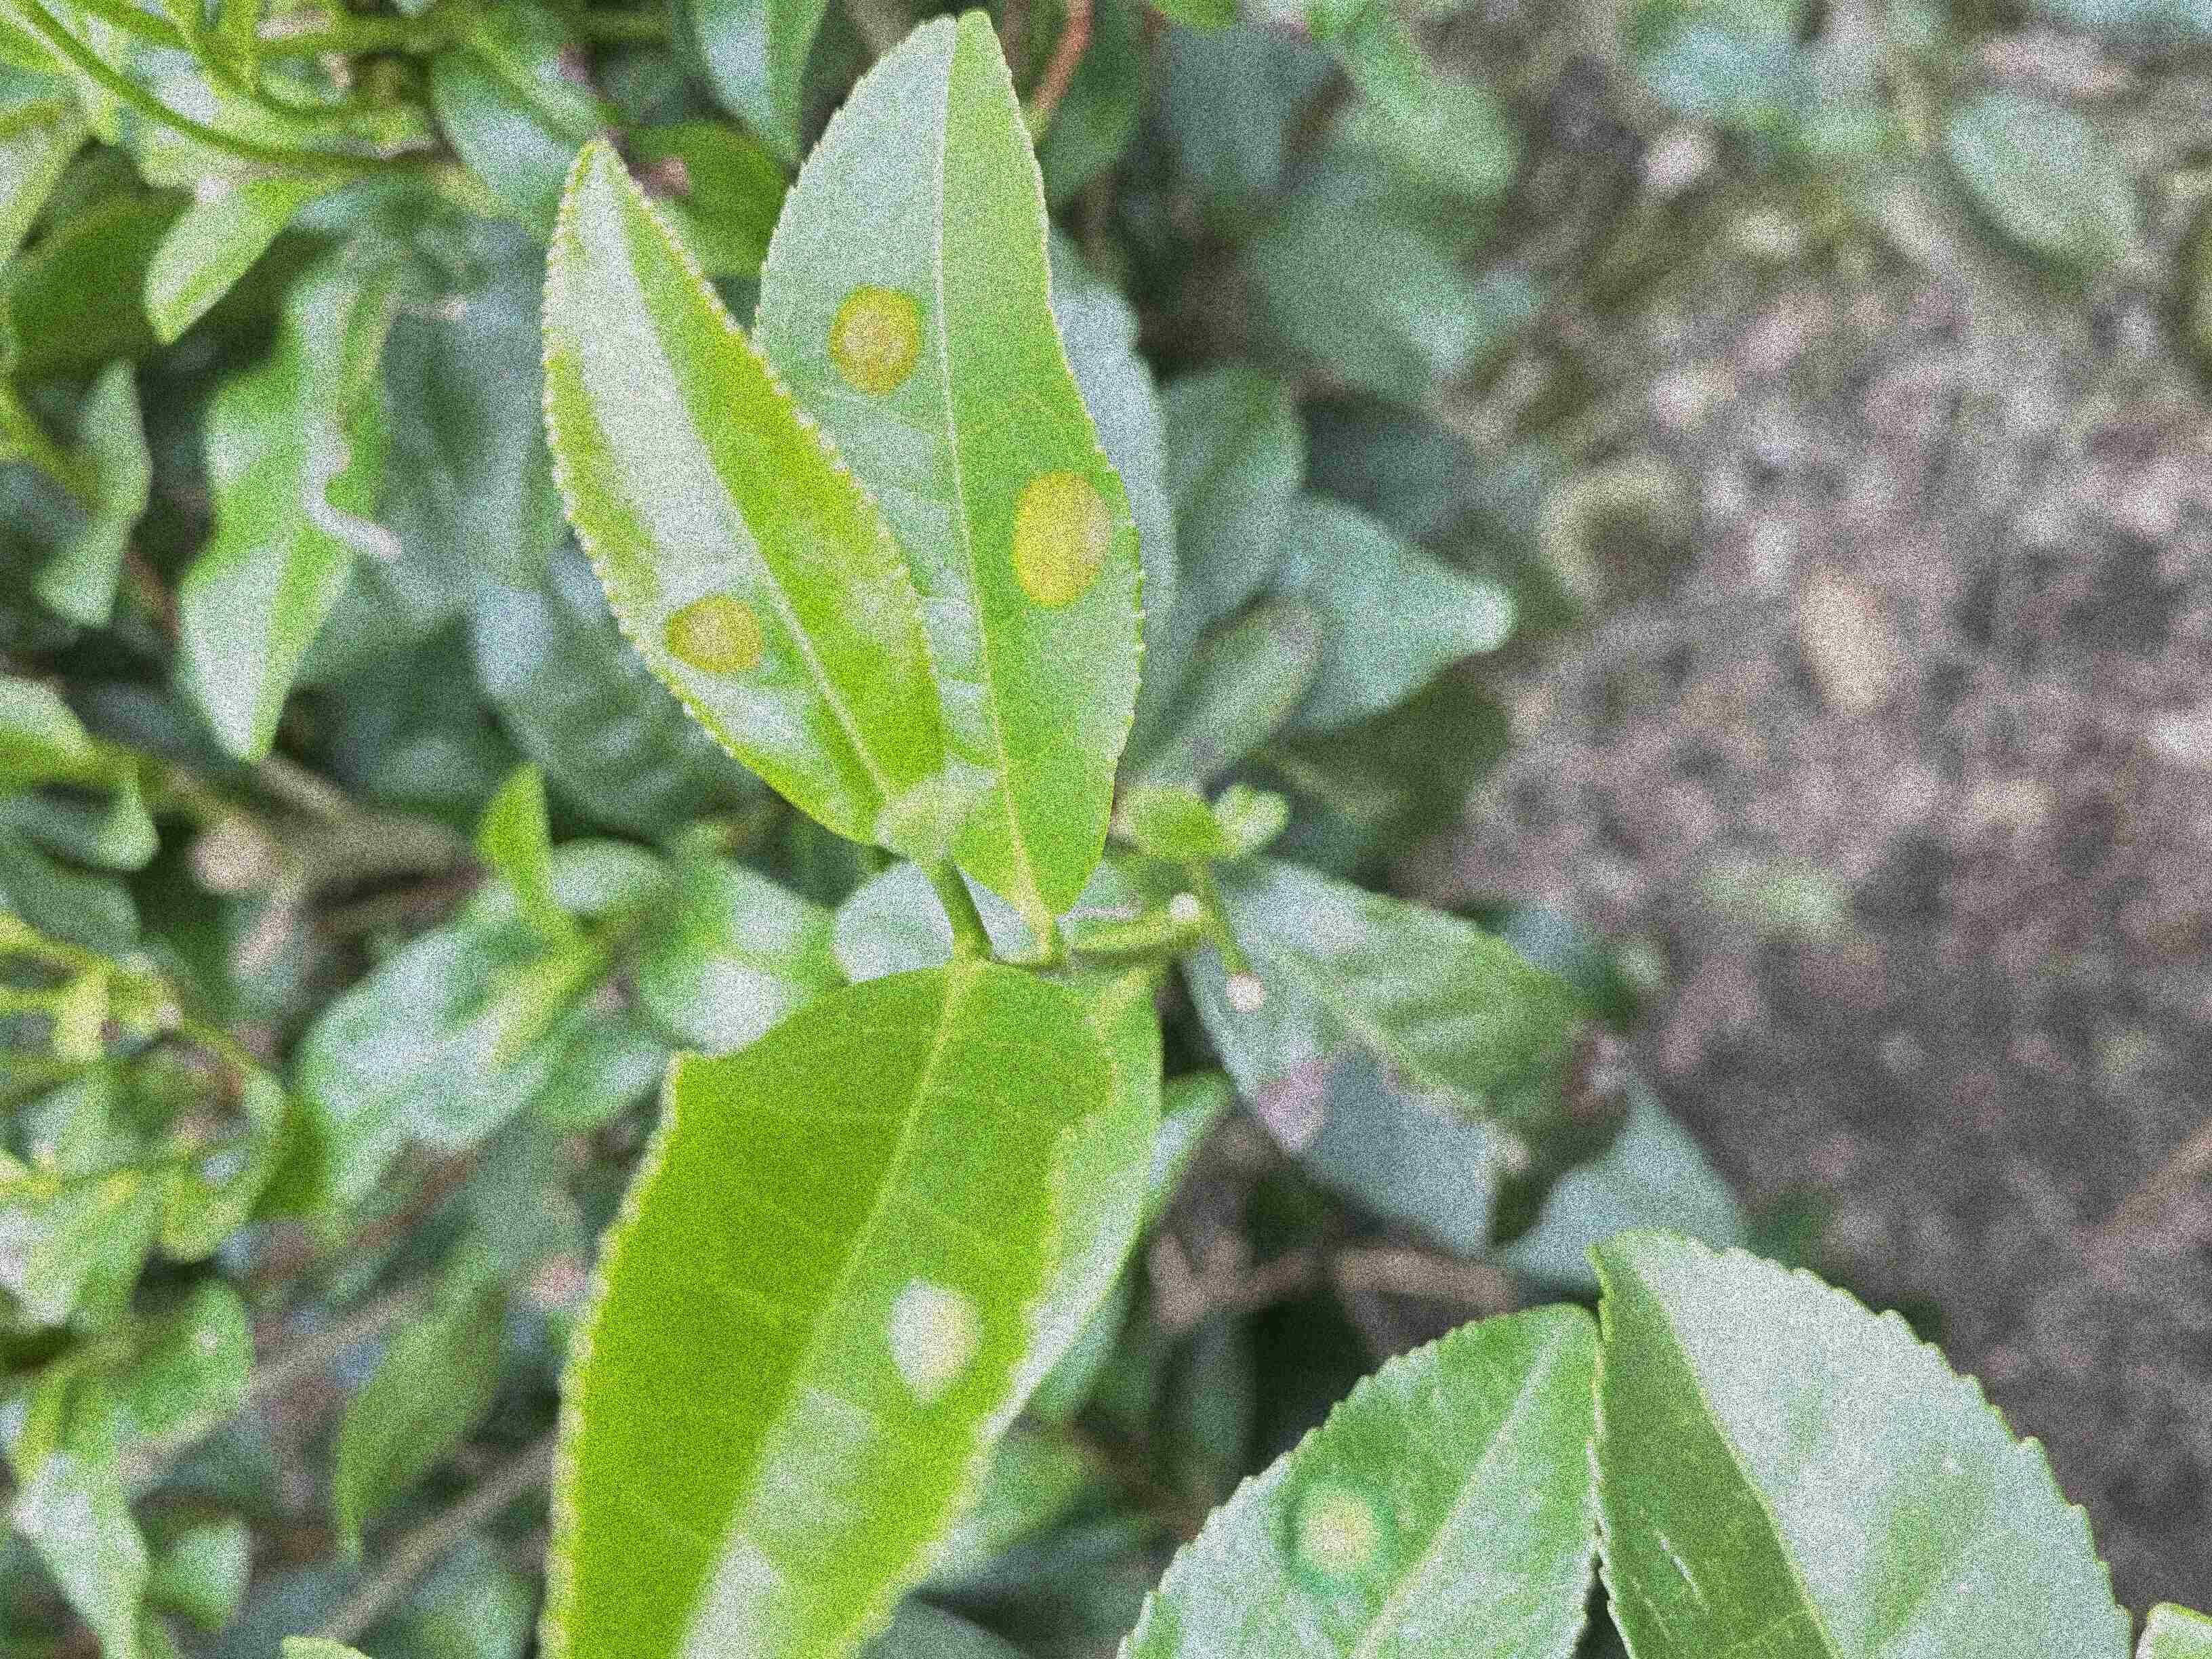chabing_high: (752, 12, 1148, 917)
chabing_low: (540, 957, 1120, 1656), (535, 132, 949, 849), (1118, 1305, 1597, 1657)
